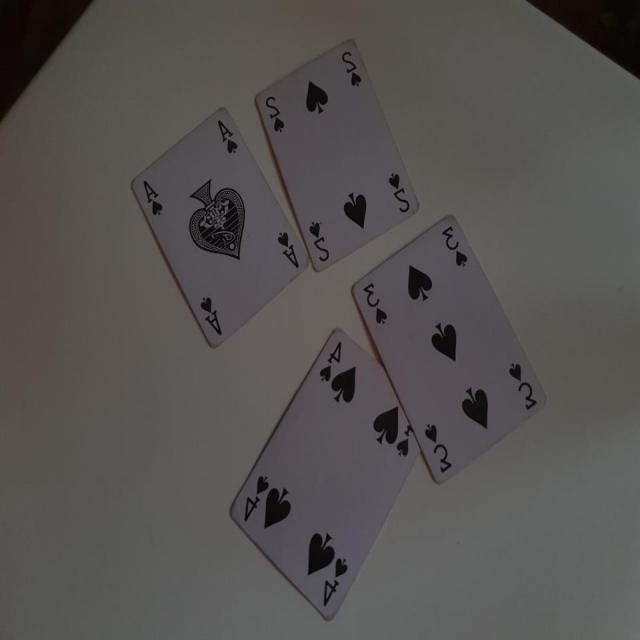2 of spades: (254, 37, 422, 273)
3 of spades: (352, 214, 550, 486)
4 of spades: (228, 327, 420, 625)
ace of spades: (135, 112, 305, 340)
